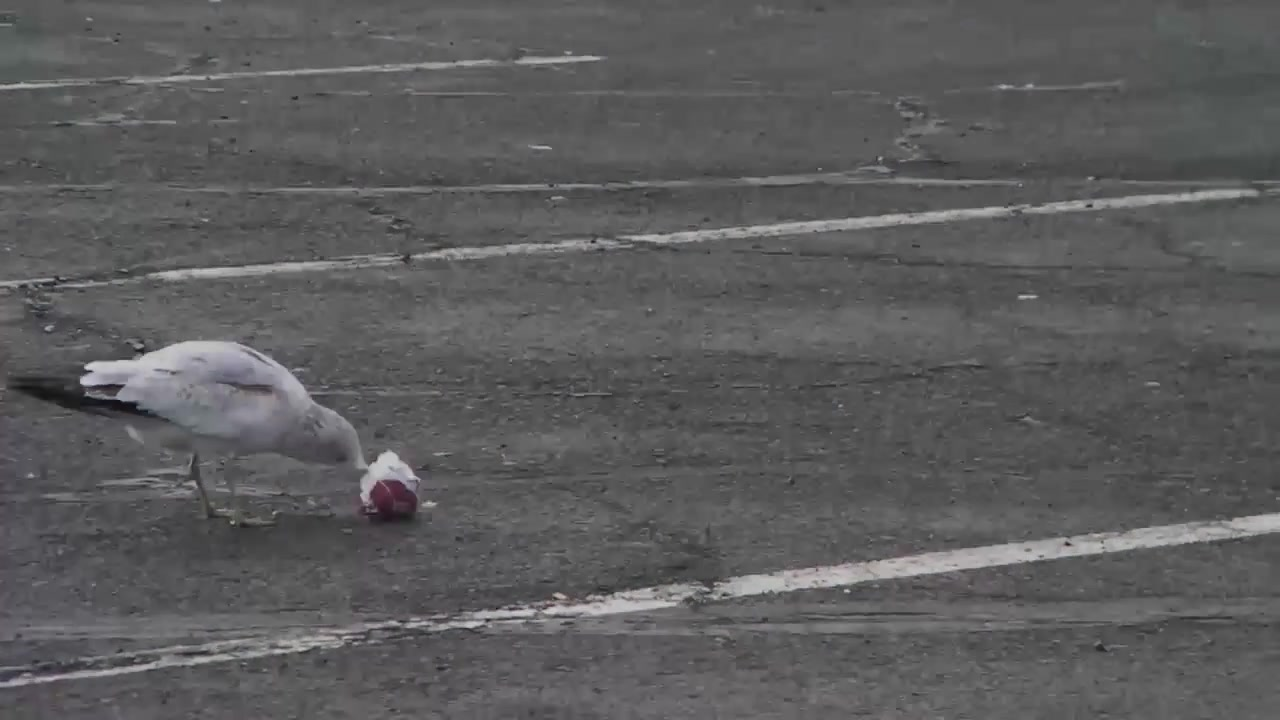bird: (6, 344, 370, 529)
